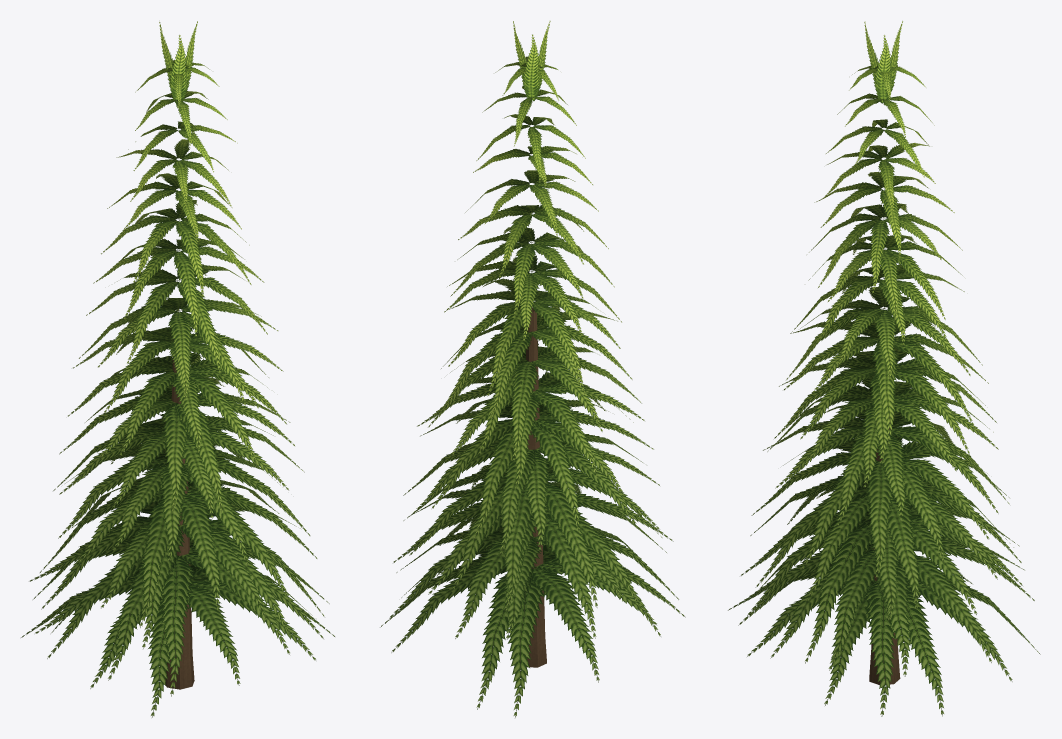
File: fir2_a.glb
3 renders of one model, left to right at view 1: azimuth 30°, elevation 25°; view 2: azimuth 150°, elevation 25°; view 3: azimuth 270°, elevation 25°, orthographic. The views are drawn at different scales.
Parts seen in each view (by area): view 1: fir2_a; view 2: fir2_a; view 3: fir2_a.
Part boxes in pixels (bbox=[...]): fir2_a: bbox=[21, 21, 334, 717]; fir2_a: bbox=[380, 21, 685, 717]; fir2_a: bbox=[728, 21, 1040, 716].
Bounding box in the file's own units: 3.22 × 7.14 × 3.23.
Materials: 2 (2 with a texture image).
